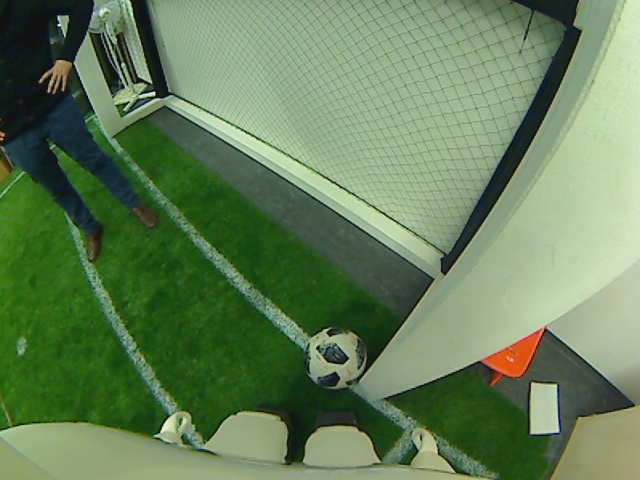ball: (304, 324, 365, 393)
